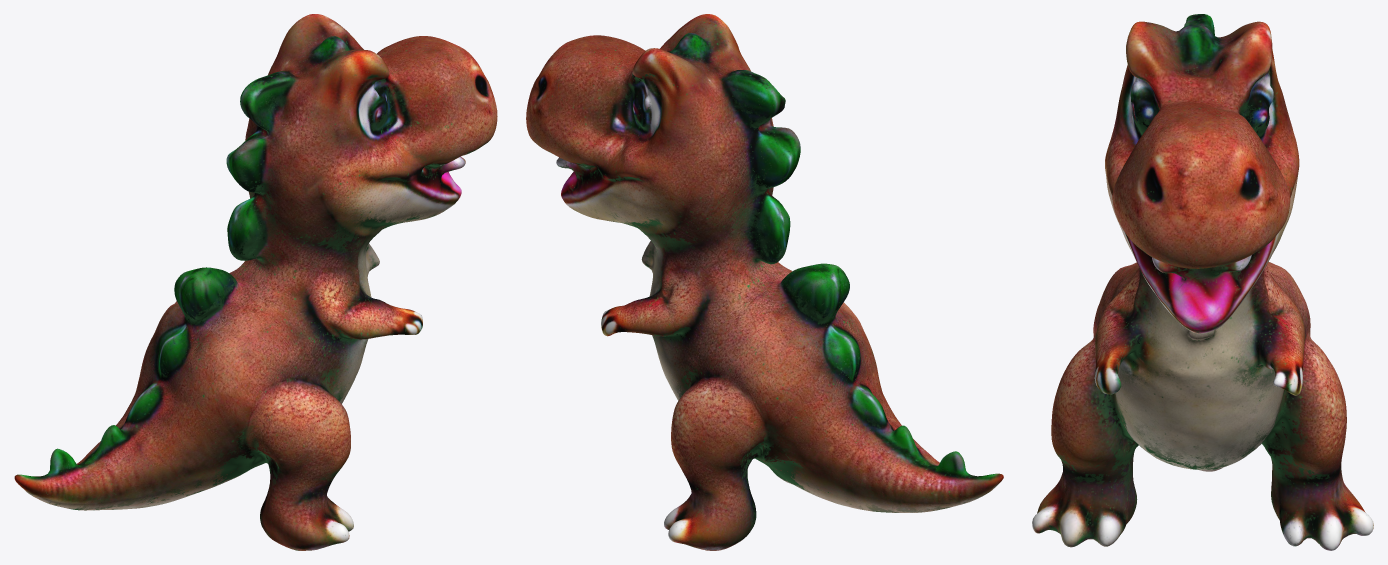
File: toy_dinosaur.glb
3 renders of one model, left to right at view 1: azimuth 30°, elevation 25°; view 2: azimuth 150°, elevation 25°; view 3: azimuth 270°, elevation 25°, orthographic. The views are drawn at different scales.
Visible parts, largest first — view 1: model; view 2: model; view 3: model.
Boxes of the visible parts, box(x1,y1,x2,y2) form: model: box(14, 14, 497, 550); model: box(526, 14, 1003, 550); model: box(1032, 14, 1373, 550).
Bounding box in the file's own units: 1.65 × 1.53 × 0.8499.
1 material, 1 textured.
